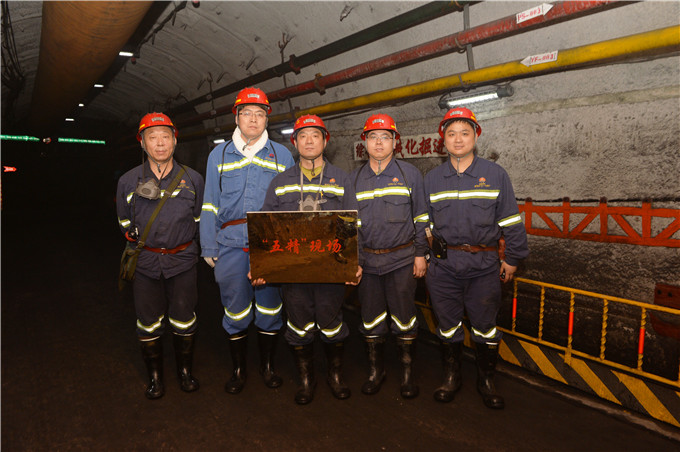helmet: (135, 108, 190, 167), (435, 106, 490, 163), (225, 82, 274, 142), (284, 113, 337, 167), (357, 113, 407, 165)
